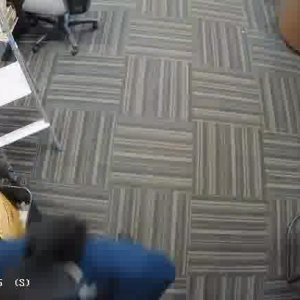person: (17, 228, 144, 300)
